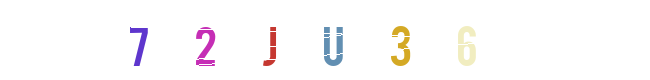2: (166, 0, 246, 80)
3: (286, 0, 366, 80)
6: (360, 0, 440, 80)
7: (100, 0, 180, 80)
J: (232, 0, 312, 80)
U: (284, 0, 364, 80)
